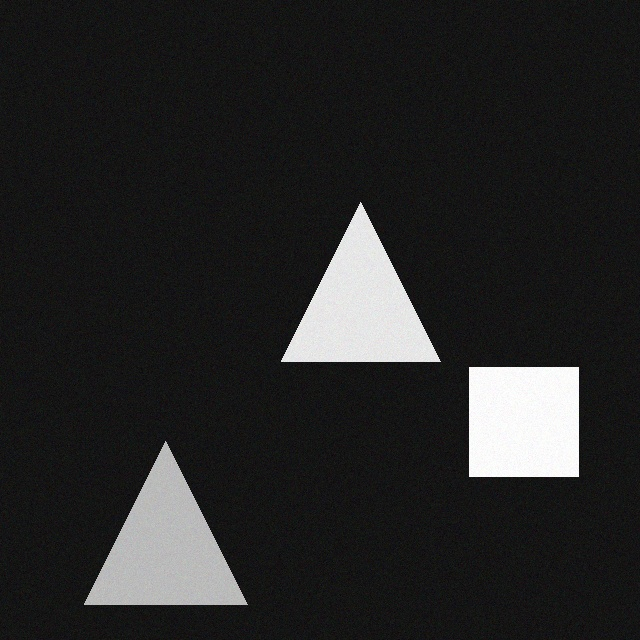square: (464, 379, 573, 488)
triangle: (79, 453, 242, 616), (276, 214, 435, 373)
